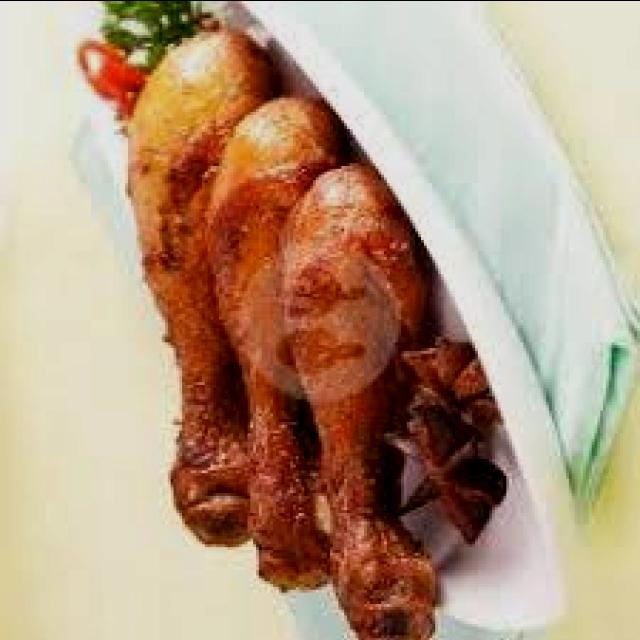ayam goreng: (125, 28, 282, 546)
